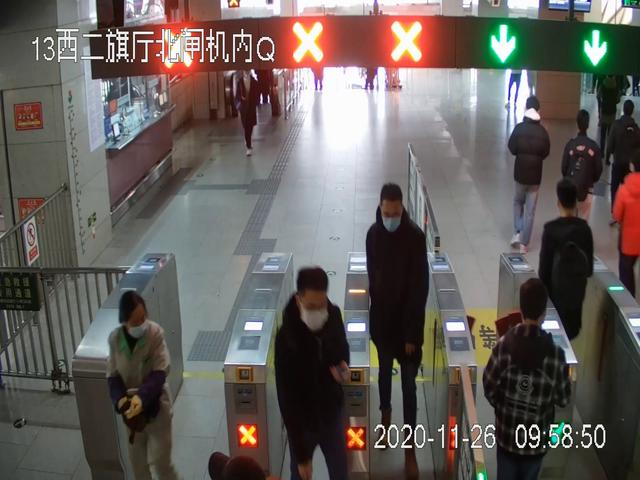person: (365, 181, 428, 480), (483, 278, 570, 480), (274, 267, 351, 480), (106, 292, 175, 479), (538, 179, 593, 375), (509, 97, 549, 255), (562, 110, 602, 260), (608, 100, 640, 226), (236, 67, 261, 155)
